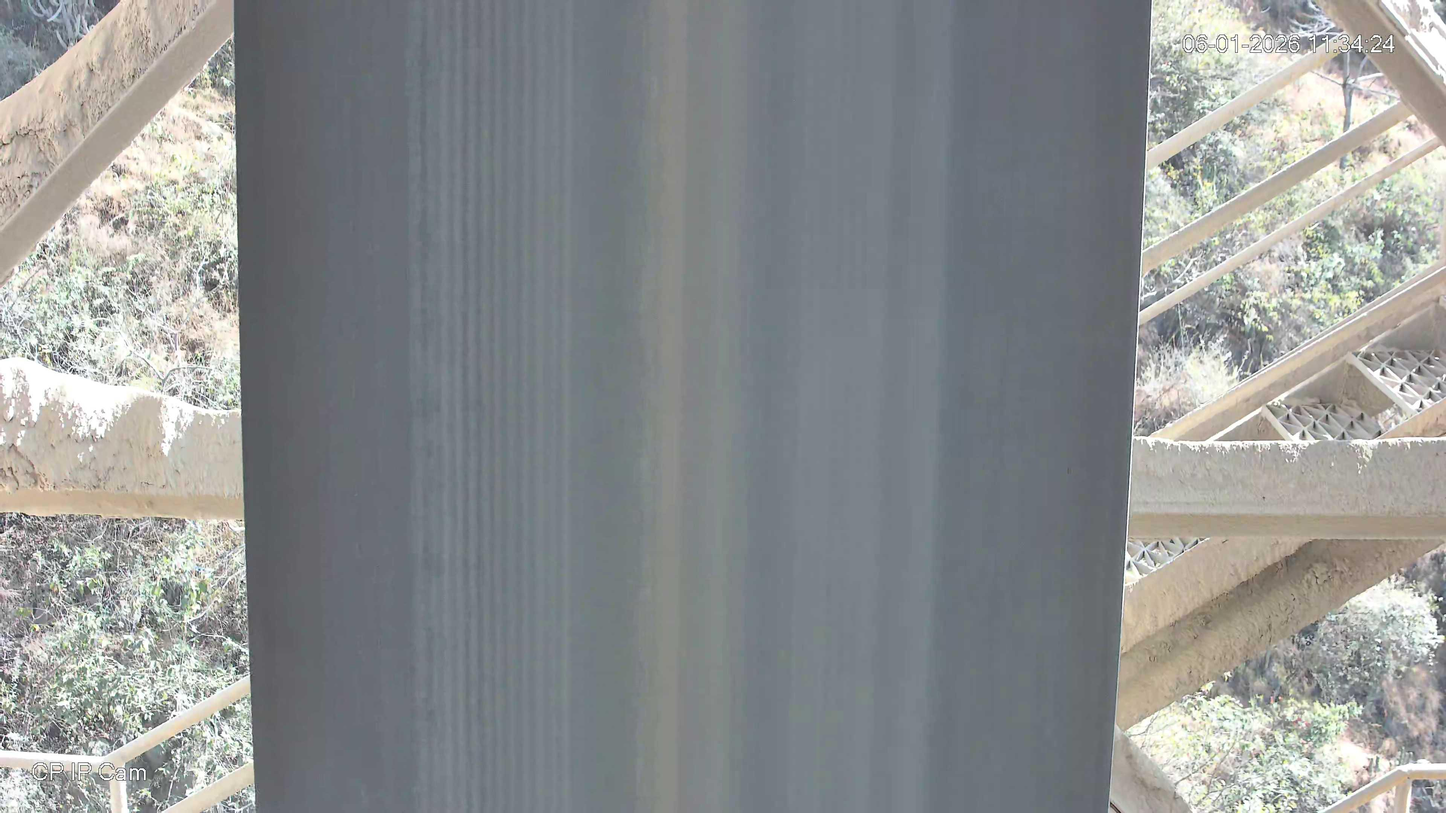belt_roi: (234, 1, 1153, 813)
